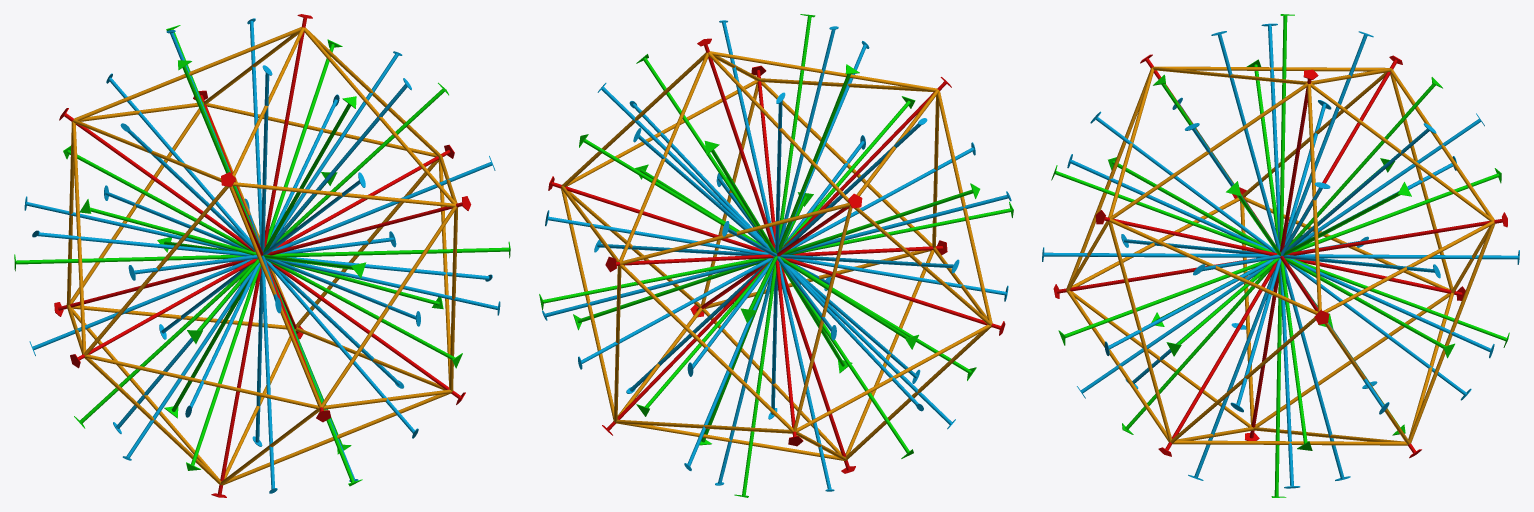
File: 2BUK_axis.glb
3 views of the same model, side by side, from view 1: azimuth 30°, elevation 25°; view 2: azimuth 150°, elevation 25°; view 3: azimuth 270°, elevation 25° (orthographic). The views are drawn at different scales.
Size of the model in its own units: 226 by 224 by 228.
